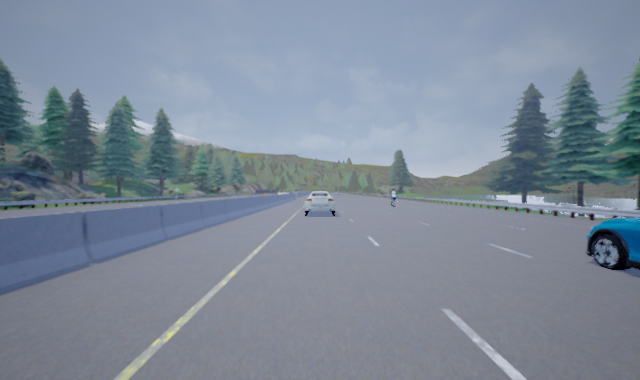bike: (390, 186, 398, 207)
vehicle: (584, 213, 639, 271), (303, 190, 336, 216)
